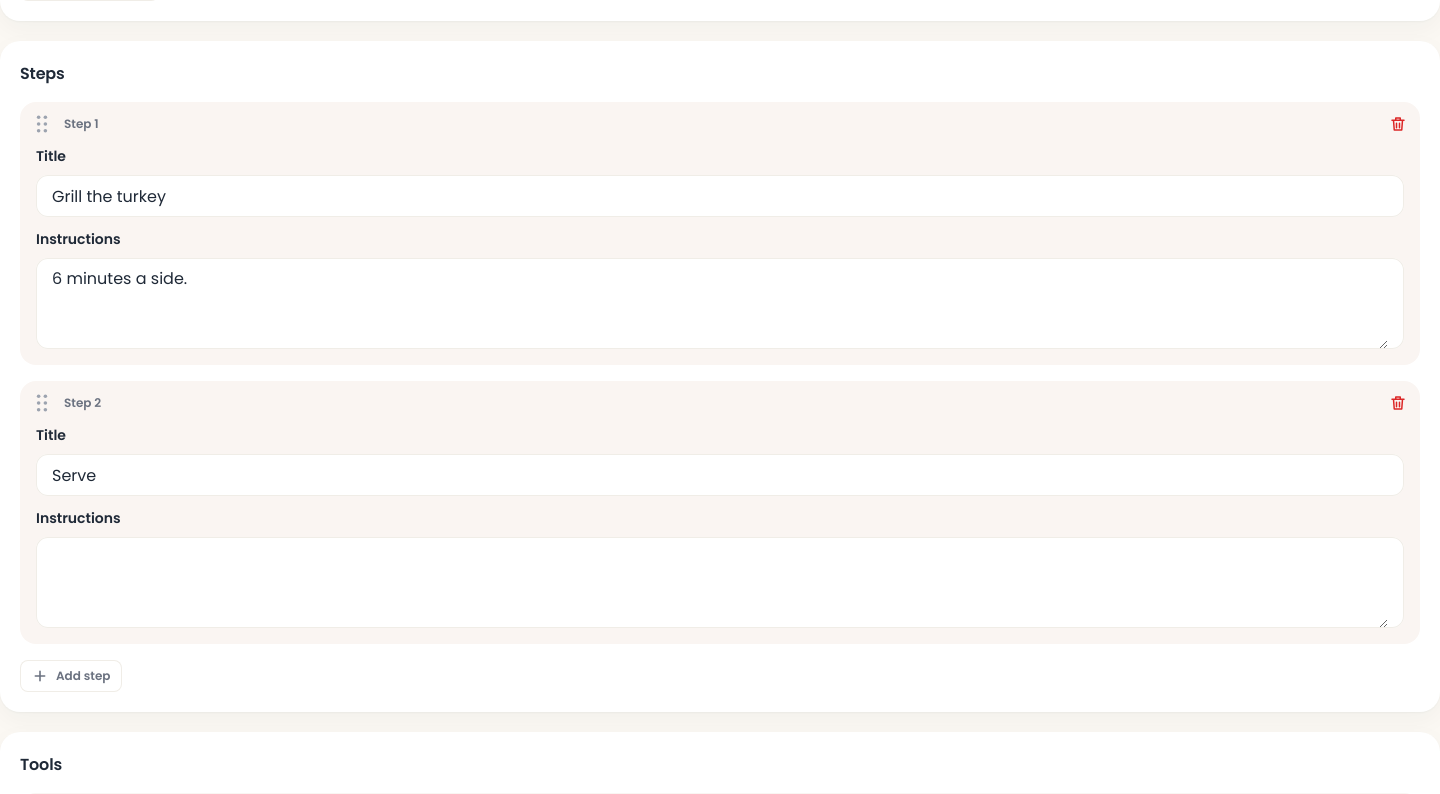
Test: RecipeEditor › shows the move buttons only after a tap on a line's grip
(page scrolled)
Expected: the button "Move" is not shown
Click the button named "Reorder step 2": (42, 403) [20, 381, 64, 425]
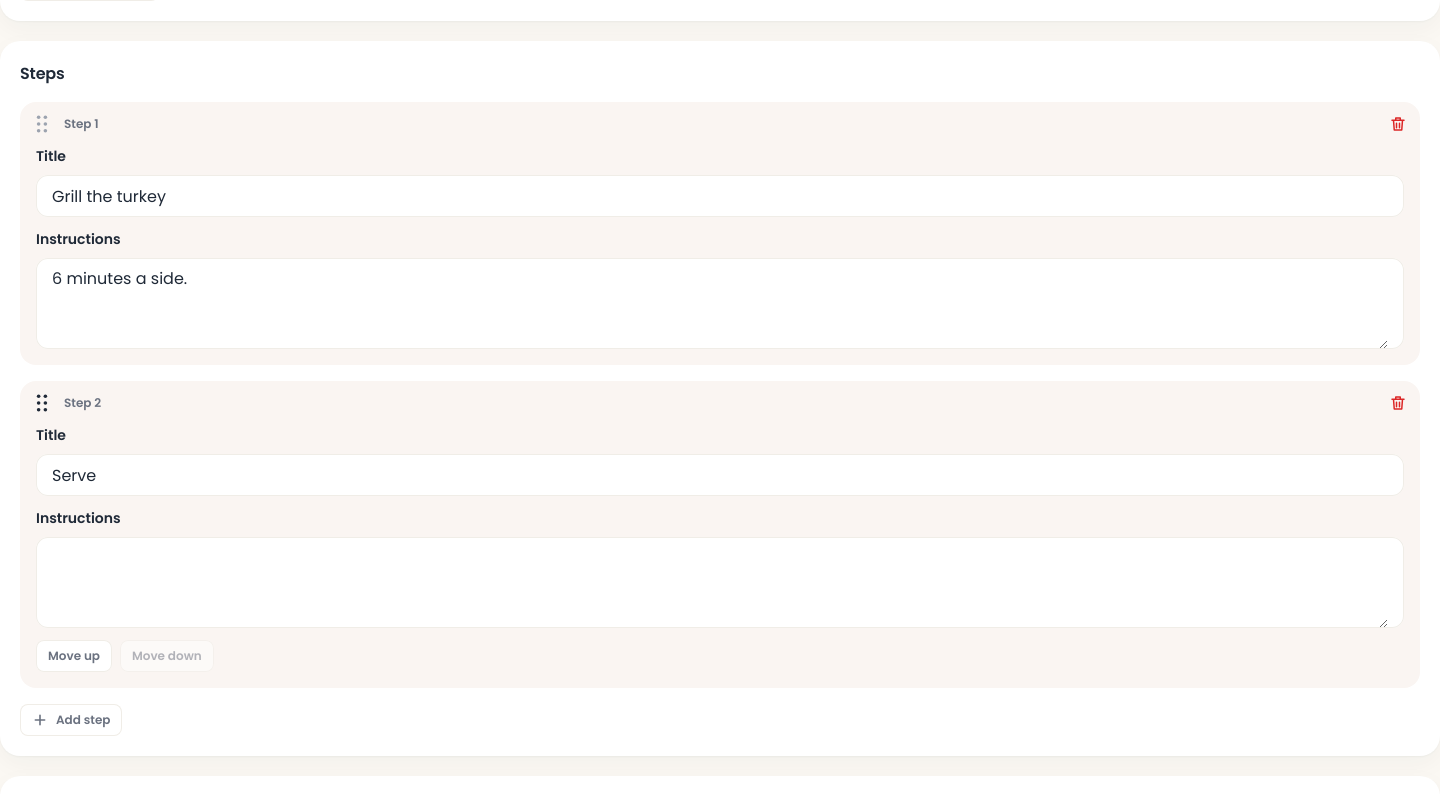
Expected: the button named "Reorder step 2" is expanded
Click the button named "Reorder step 2": (42, 403) [20, 381, 64, 425]
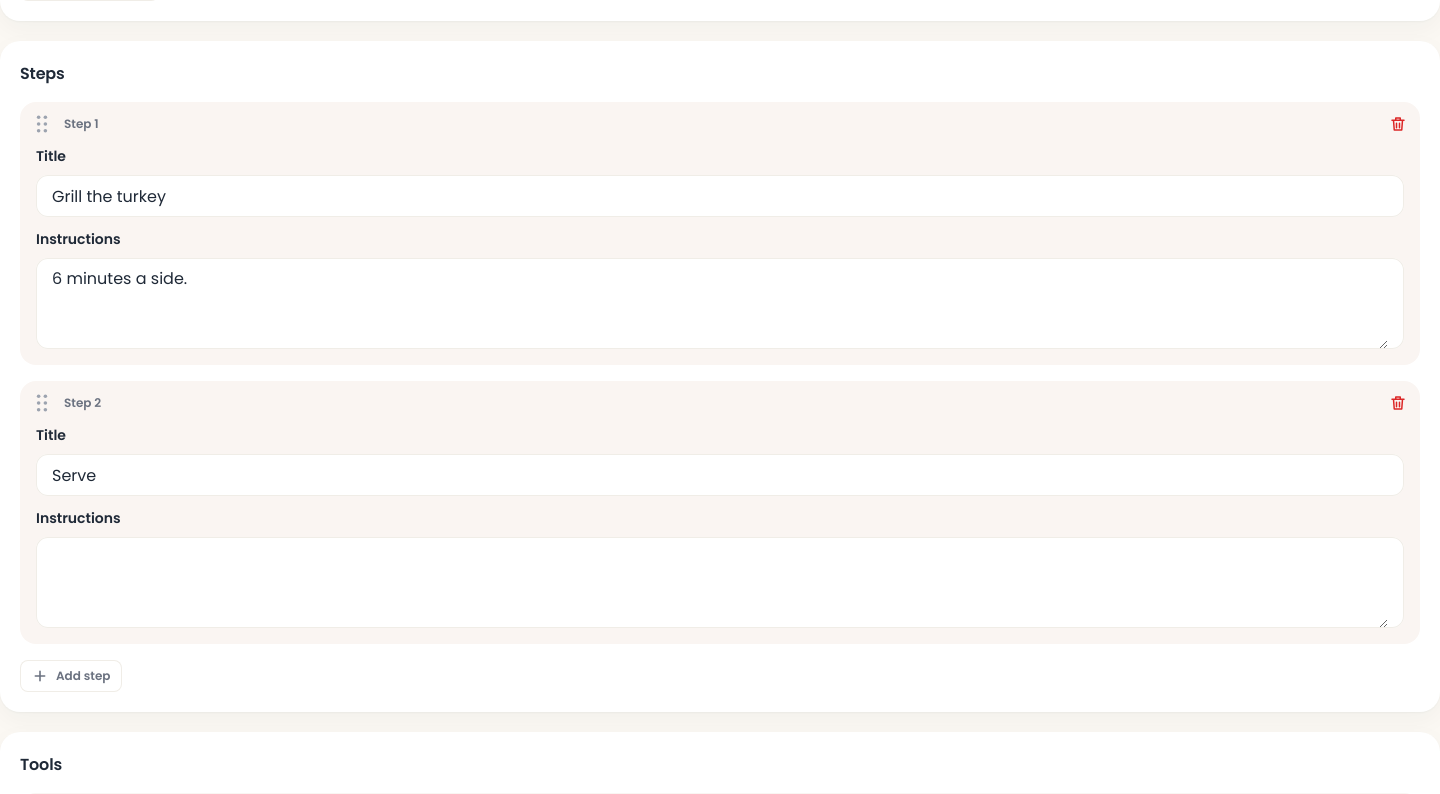
Expected: the button "Move" is gone
